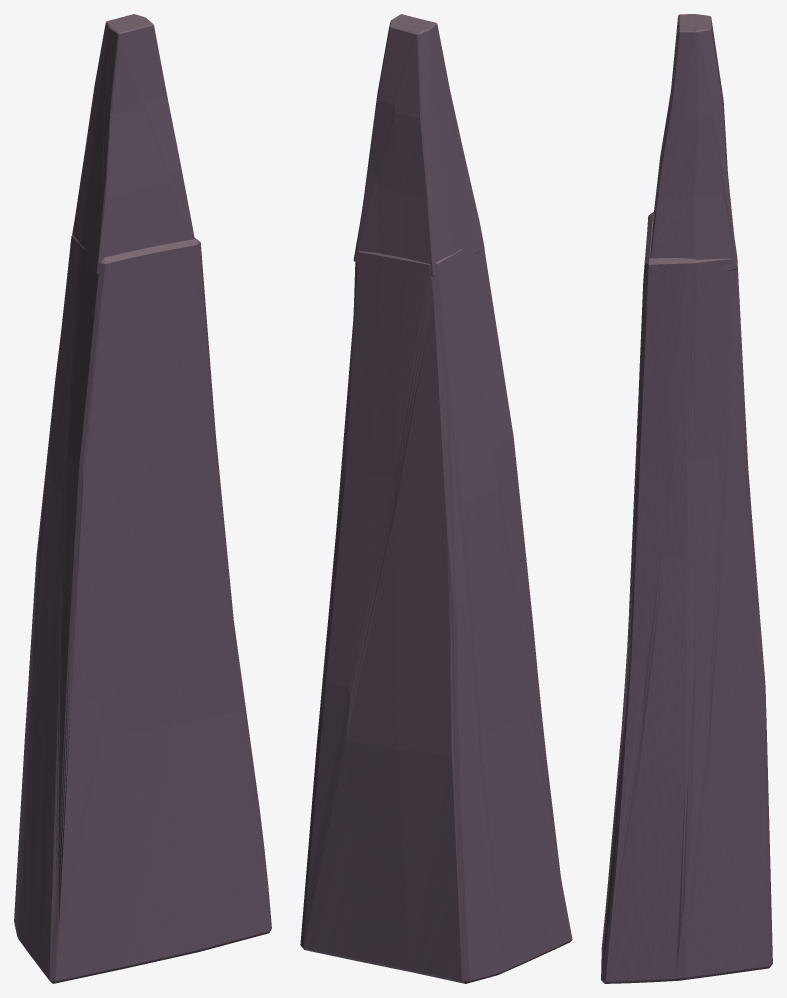
The picture shows the model from 3 angles, left to right: view 1: azimuth 30°, elevation 25°; view 2: azimuth 150°, elevation 25°; view 3: azimuth 270°, elevation 25°; orthographic projection.
Parts seen in each view (by area): view 1: A04R_lower, A04R_upper; view 2: A04R_lower, A04R_upper; view 3: A04R_lower, A04R_upper.
Boxes of the visible parts, left/top/right/bottom form: A04R_lower: left=14, top=234, right=271, bottom=983; A04R_upper: left=70, top=14, right=194, bottom=274; A04R_lower: left=300, top=247, right=572, bottom=983; A04R_upper: left=353, top=14, right=484, bottom=276; A04R_lower: left=601, top=212, right=772, bottom=983; A04R_upper: left=650, top=14, right=737, bottom=271.
Size of the model in its own units: 118 by 469 by 79.71.
